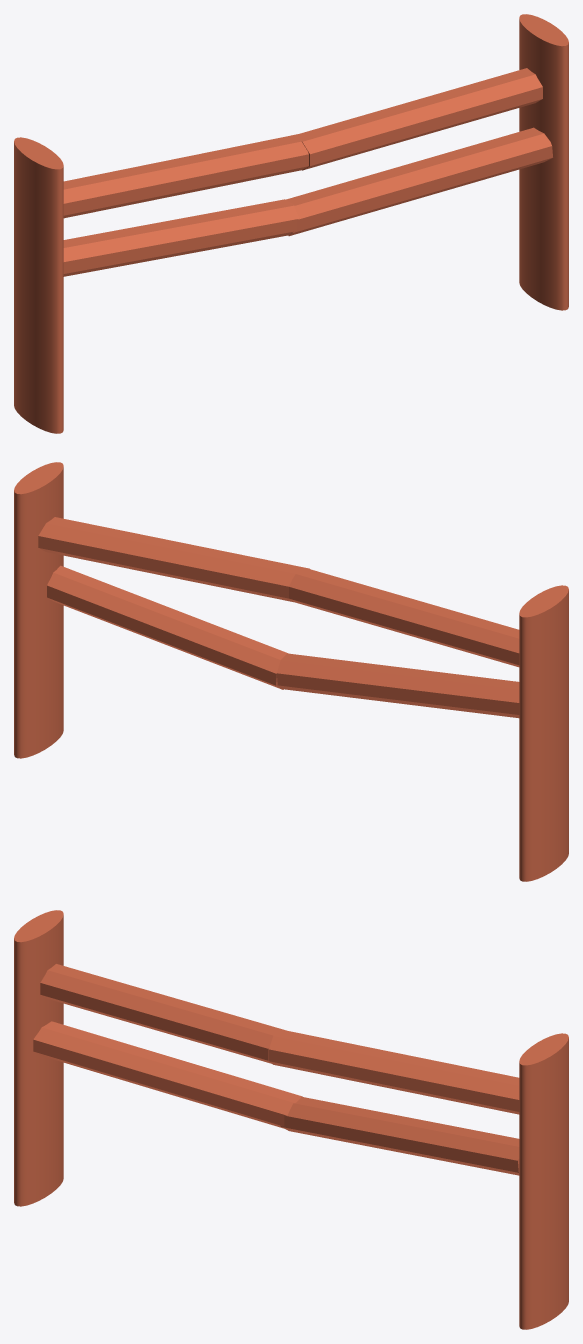
Rendered from PastureFence.glb.
3 renders of one model, top to bottom at view 1: azimuth 30°, elevation 25°; view 2: azimuth 150°, elevation 25°; view 3: azimuth 330°, elevation 25°, orthographic.
Parts seen in each view (by area): view 1: trunk_skewLarge (×4), mast_middle (×2); view 2: trunk_skewLarge (×4), mast_middle (×2); view 3: trunk_skewLarge (×4), mast_middle (×2).
Boxes of the visible parts, bbox=[...] form: trunk_skewLarge (×4): bbox=[63, 68, 552, 276]; mast_middle (×2): bbox=[14, 14, 568, 433]; trunk_skewLarge (×4): bbox=[38, 517, 519, 718]; mast_middle (×2): bbox=[14, 462, 568, 881]; trunk_skewLarge (×4): bbox=[33, 964, 519, 1175]; mast_middle (×2): bbox=[14, 910, 568, 1329].
Size of the model in its own units: 2.1 by 1 by 0.2957.
